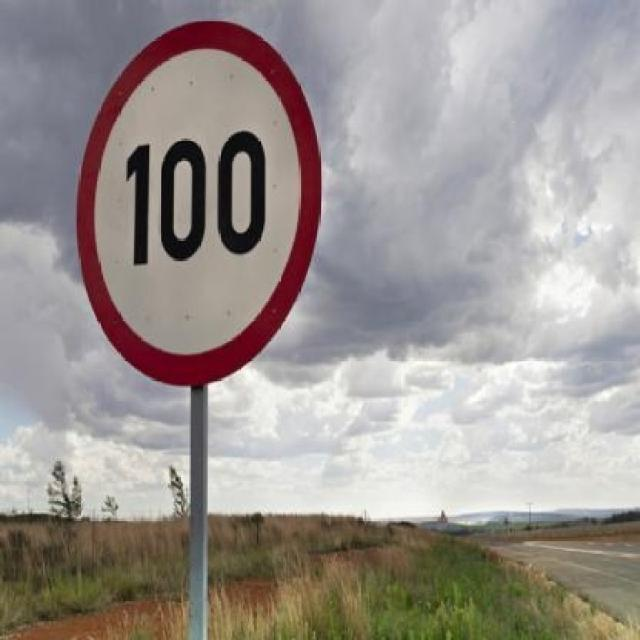forb_speed_over_100: (75, 21, 320, 385)
